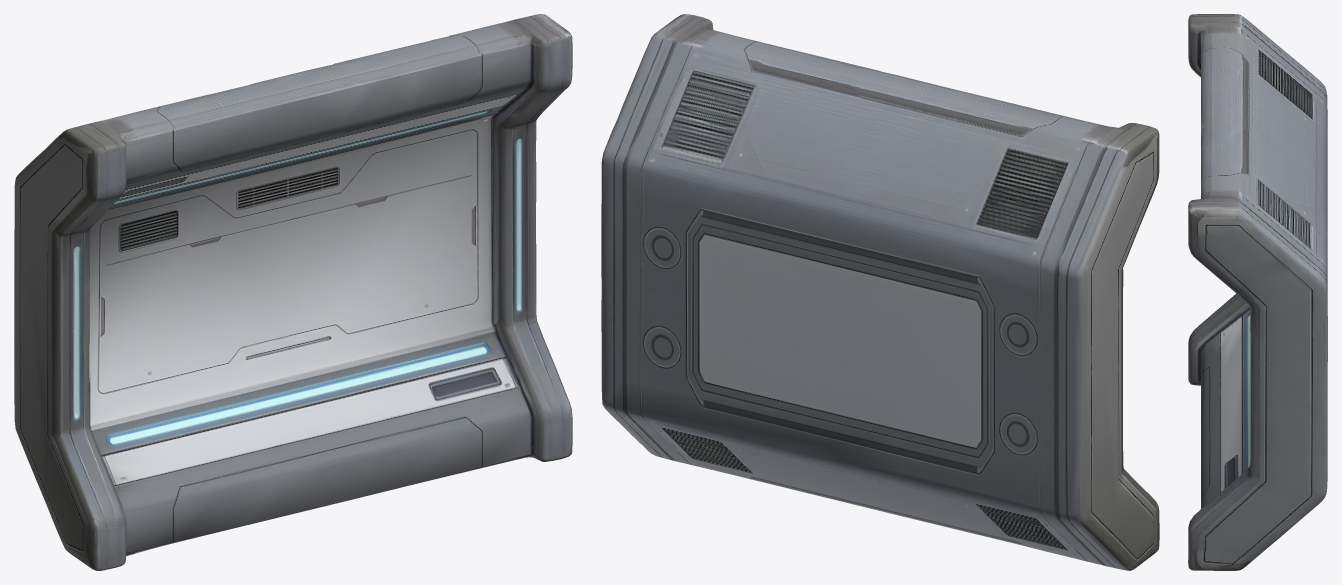
Rendered from wall_v2.glb.
3 views of the same model, side by side, from view 1: azimuth 30°, elevation 25°; view 2: azimuth 150°, elevation 25°; view 3: azimuth 270°, elevation 25° (orthographic). The views are drawn at different scales.
Parts seen in each view (by area): view 1: Mesh1.0; view 2: Mesh1.0; view 3: Mesh1.0.
Boxes of the visible parts, left/top/right/bottom form: Mesh1.0: left=14, top=14, right=572, bottom=570; Mesh1.0: left=601, top=14, right=1159, bottom=570; Mesh1.0: left=1188, top=14, right=1327, bottom=570.
Size of the model in its own units: 2.39 by 2 by 0.7001.
1 material, 1 textured.
